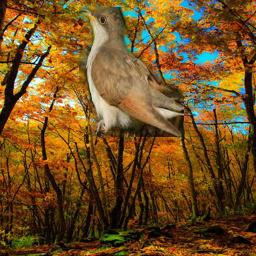Cuckoo: (79, 7, 184, 137)
